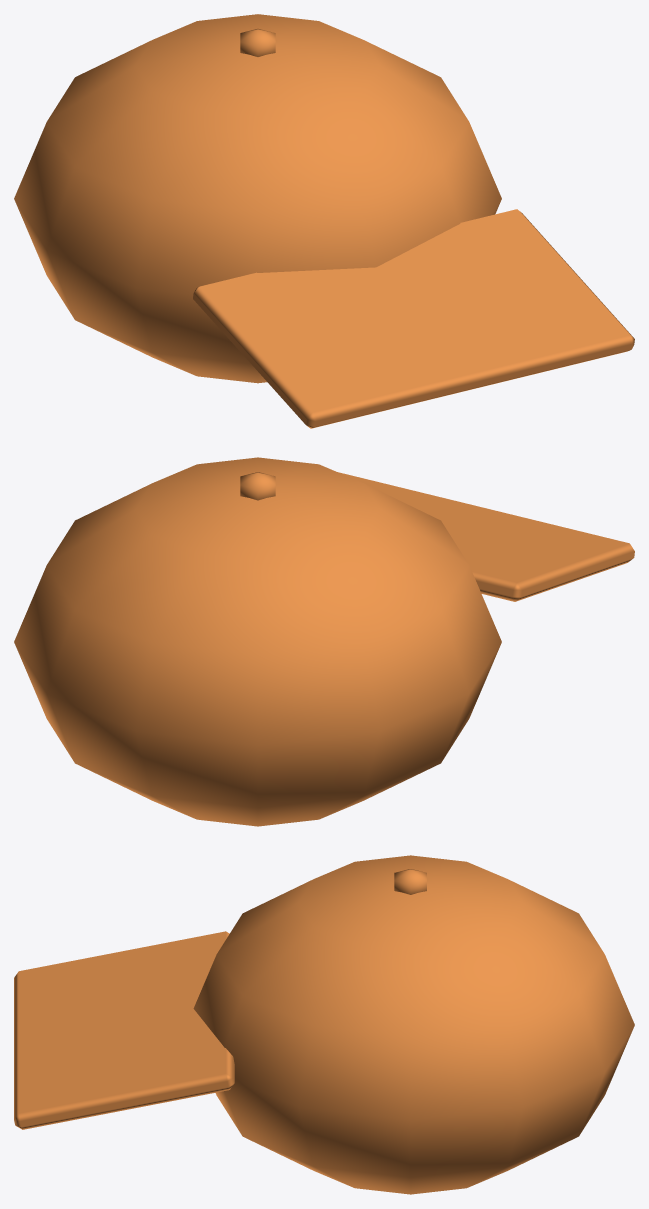
File: CM_Accessory_Cap_Delivery.fbx
3 views of the same model, one above another, from view 1: azimuth 30°, elevation 25°; view 2: azimuth 150°, elevation 25°; view 3: azimuth 270°, elevation 25° (orthographic). The views are drawn at different scales.
Parts seen in each view (by area): view 1: Handle; view 2: Handle; view 3: Handle.
Boxes of the visible parts, x1,y1,x2,y2 form: Handle: [14, 14, 634, 428]; Handle: [14, 457, 634, 826]; Handle: [14, 855, 634, 1194].
Bounding box in the file's own units: 1.44 × 1.99 × 1.05.
1 material, 1 textured.
